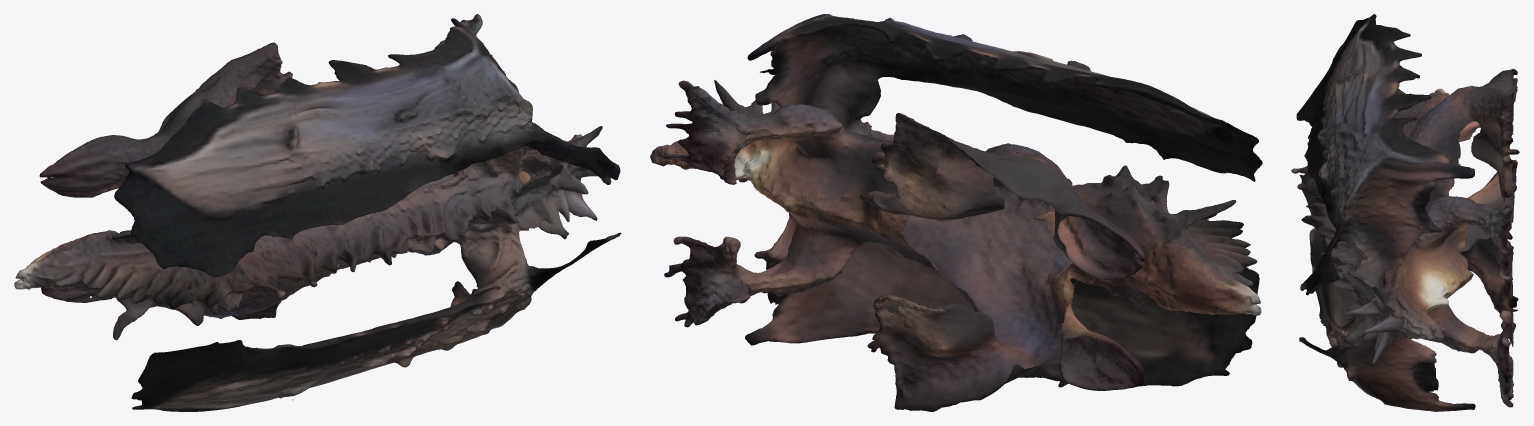
Rendered from ashfang-initial.glb.
3 renders of one model, left to right at view 1: azimuth 30°, elevation 25°; view 2: azimuth 150°, elevation 25°; view 3: azimuth 270°, elevation 25°, orthographic. The views are drawn at different scales.
Parts seen in each view (by area): view 1: geometry_0; view 2: geometry_0; view 3: geometry_0.
Boxes of the visible parts, bbox=[...] form: geometry_0: bbox=[14, 14, 621, 411]; geometry_0: bbox=[650, 14, 1262, 411]; geometry_0: bbox=[1291, 14, 1519, 411].
Size of the model in its own units: 0.995 by 0.4979 by 0.3925.
